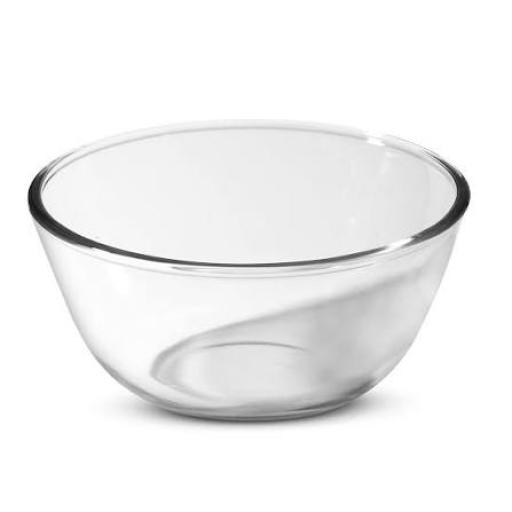Bowl: (29, 121, 470, 418)
